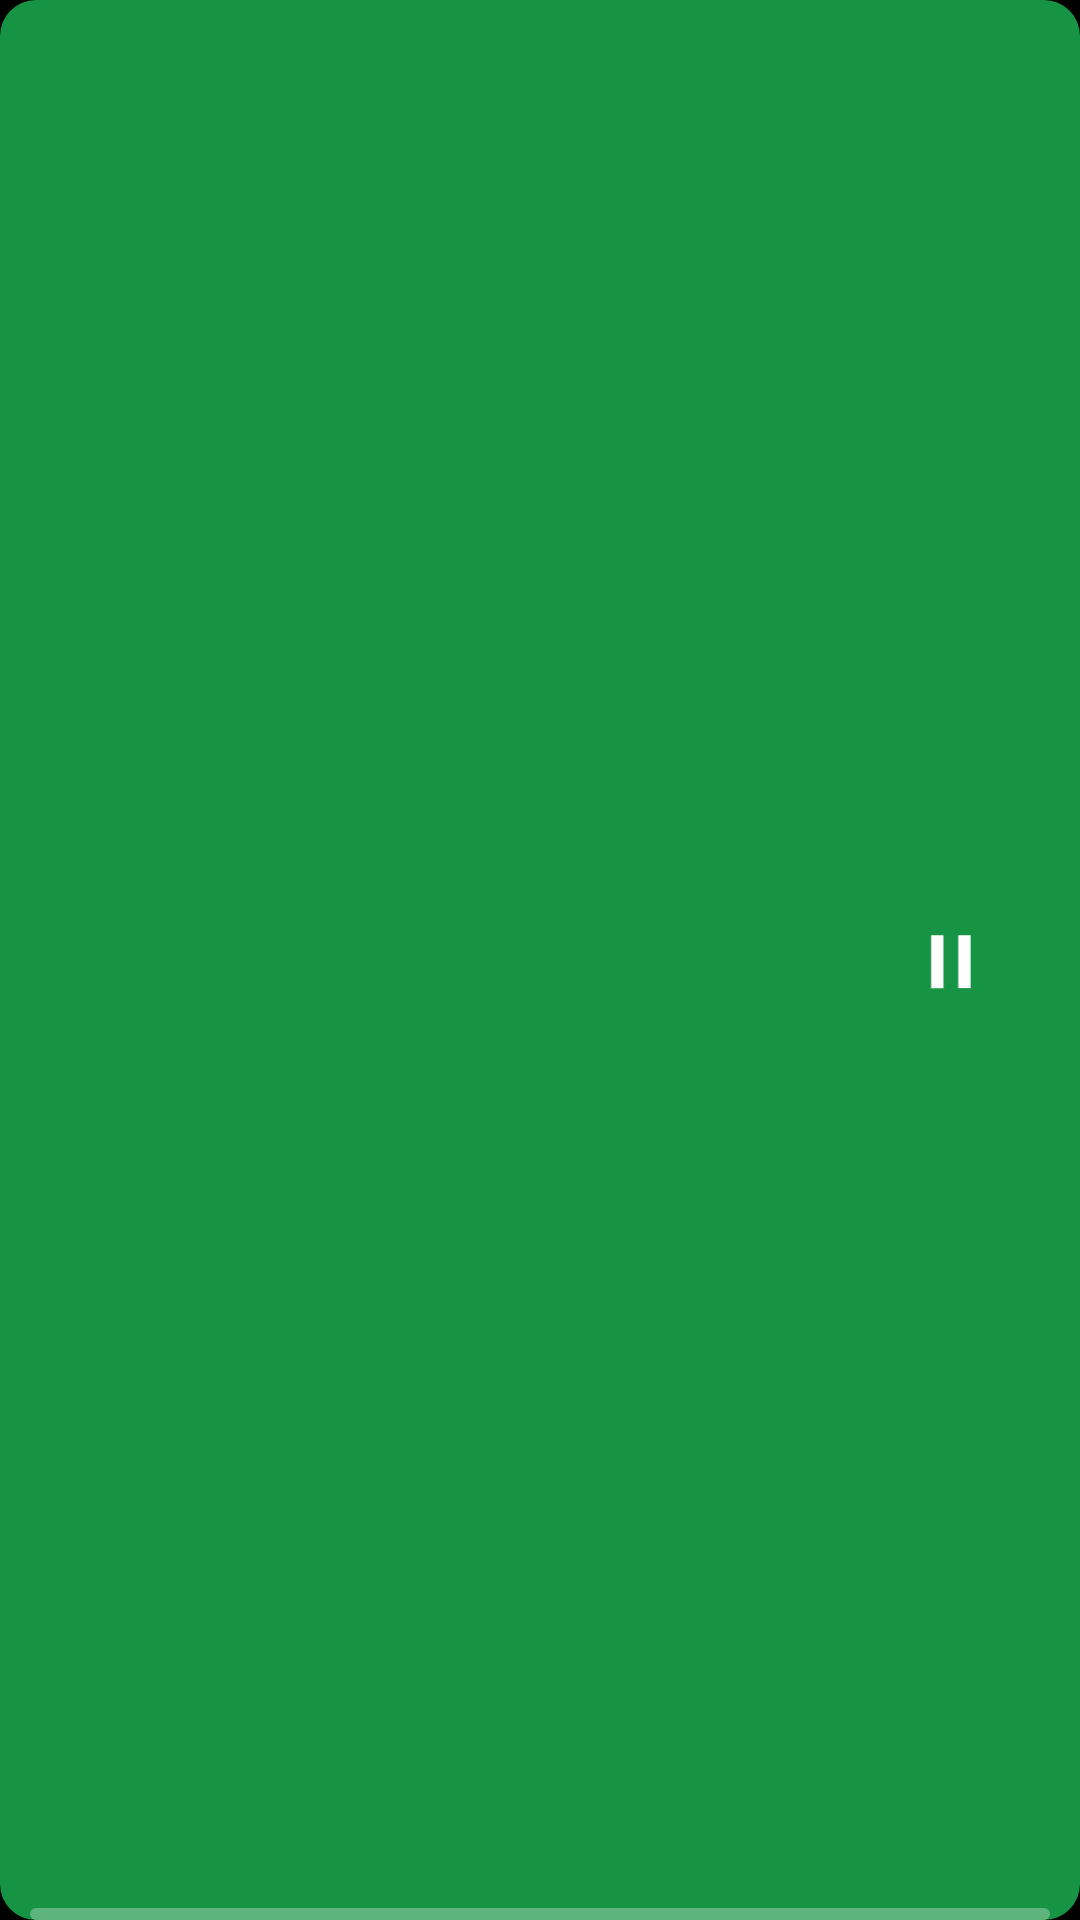

Screen size 1080px x 1920px. Icon name, then its center in pixels as (x=x, y=y):
pause: (x=950, y=962)
